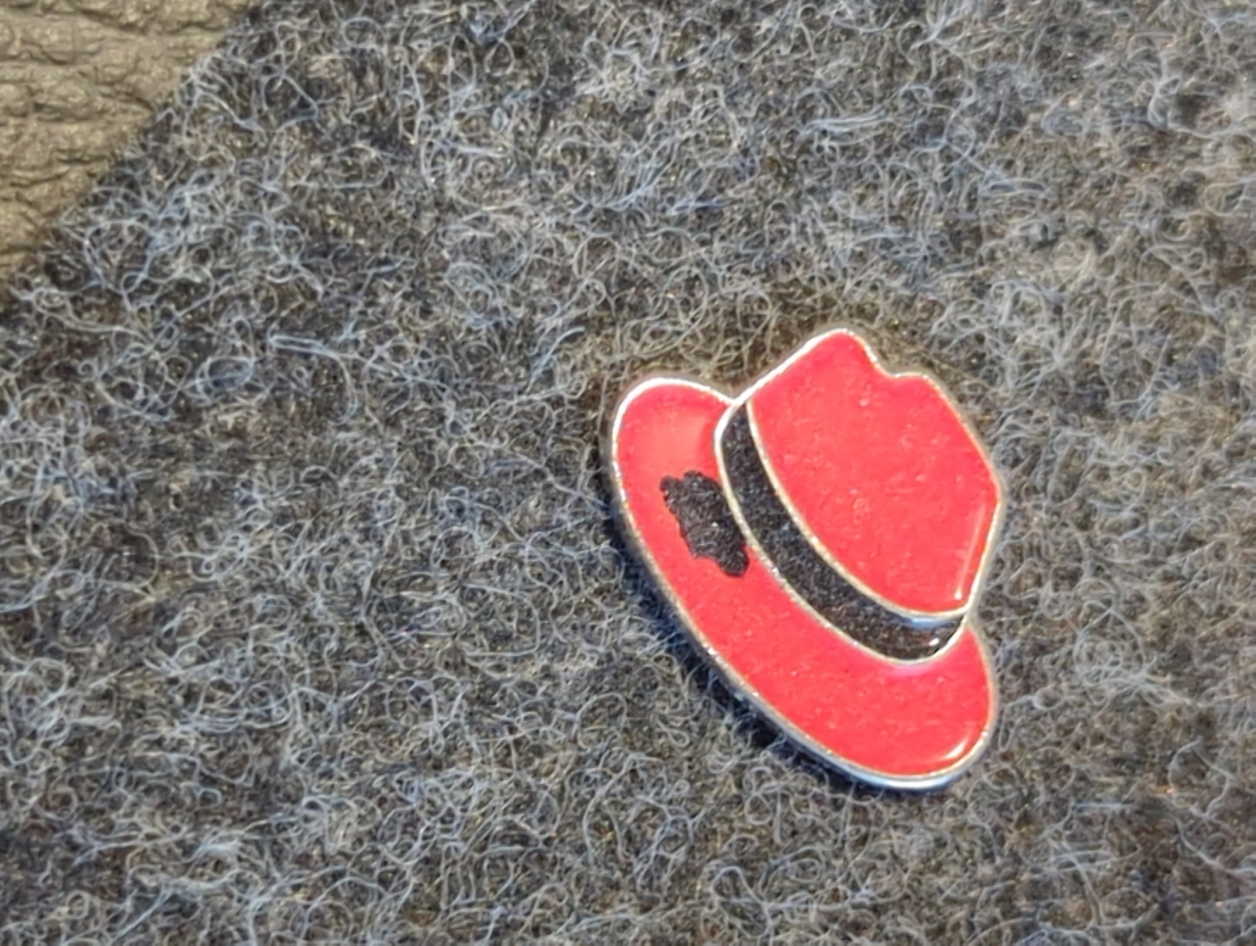Red-Hat: (524, 240, 1130, 857)
Scratch: (615, 414, 849, 638)
